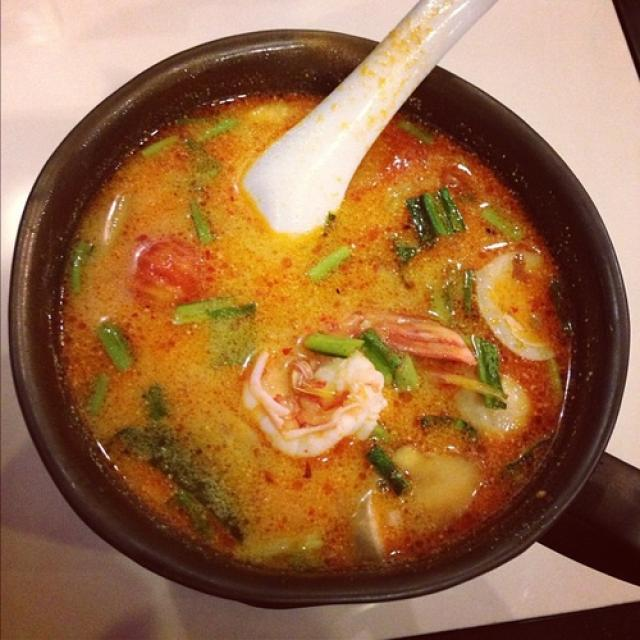汤锅炖物: (15, 32, 617, 594)
